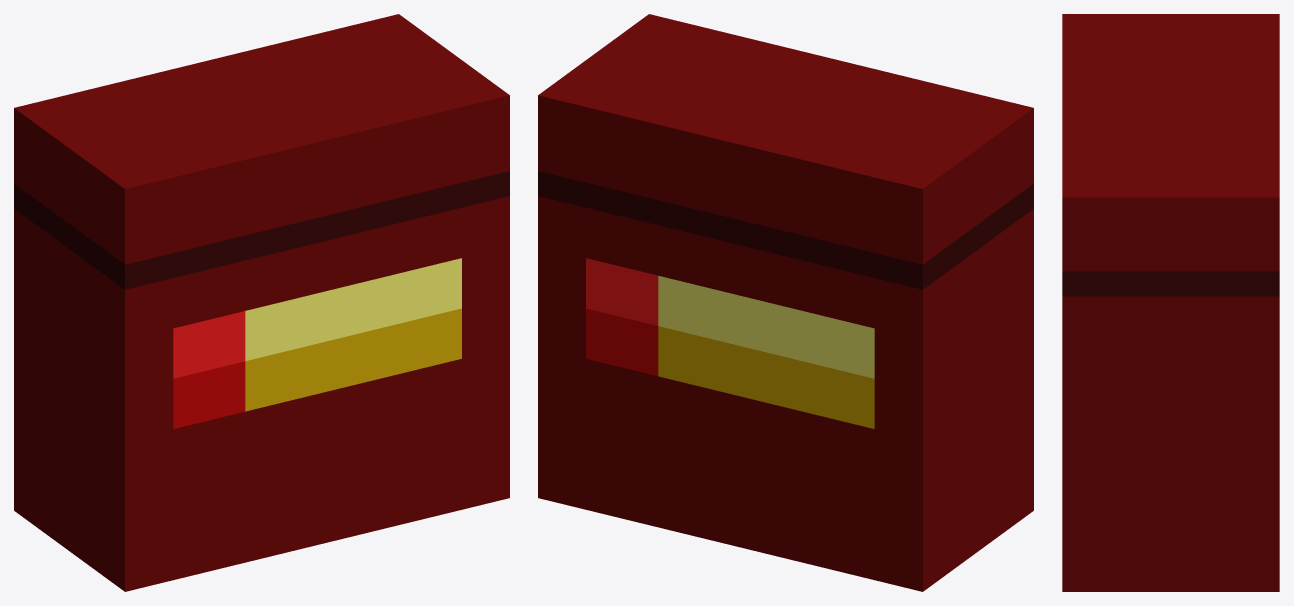
The model's file is ammo.obj.
3 renders of one model, left to right at view 1: azimuth 30°, elevation 25°; view 2: azimuth 150°, elevation 25°; view 3: azimuth 270°, elevation 25°, orthographic. The views are drawn at different scales.
Bounding box in the file's own units: 1.6 × 1.6 × 0.8.
